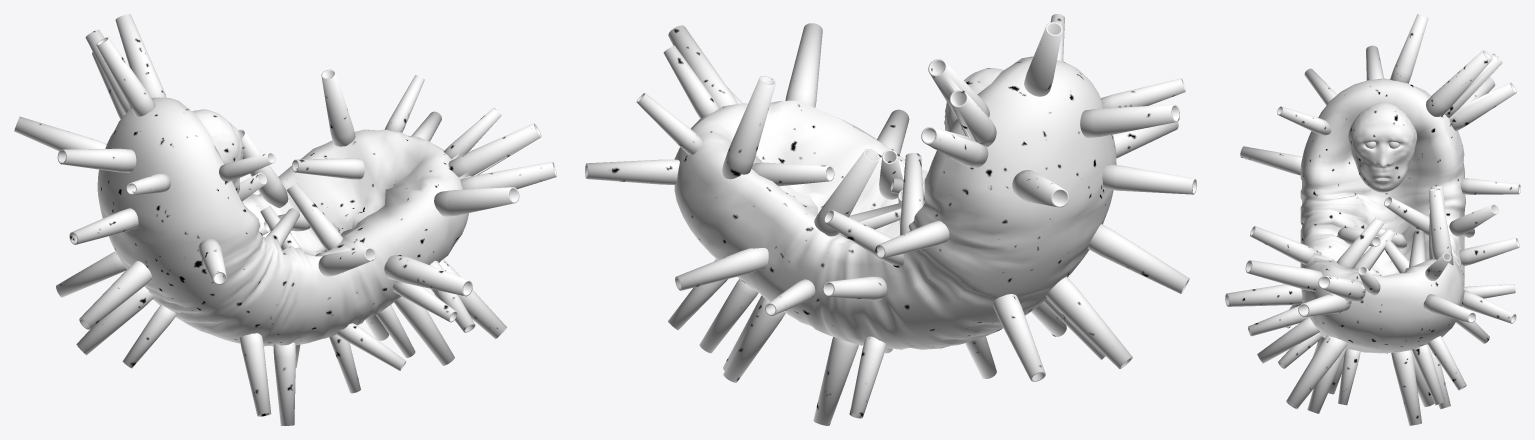
File: centerpiece.glb
3 renders of one model, left to right at view 1: azimuth 30°, elevation 25°; view 2: azimuth 150°, elevation 25°; view 3: azimuth 270°, elevation 25°, orthographic. The views are drawn at different scales.
Visible parts, largest first — view 1: Cube; view 2: Cube; view 3: Cube.
Part boxes in pixels (left/top/right/bottom): Cube: left=14, top=14, right=556, bottom=425; Cube: left=585, top=14, right=1196, bottom=425; Cube: left=1225, top=14, right=1520, bottom=425.
Size of the model in its own units: 5.1 by 4.04 by 3.43.
1 material, 1 textured.
